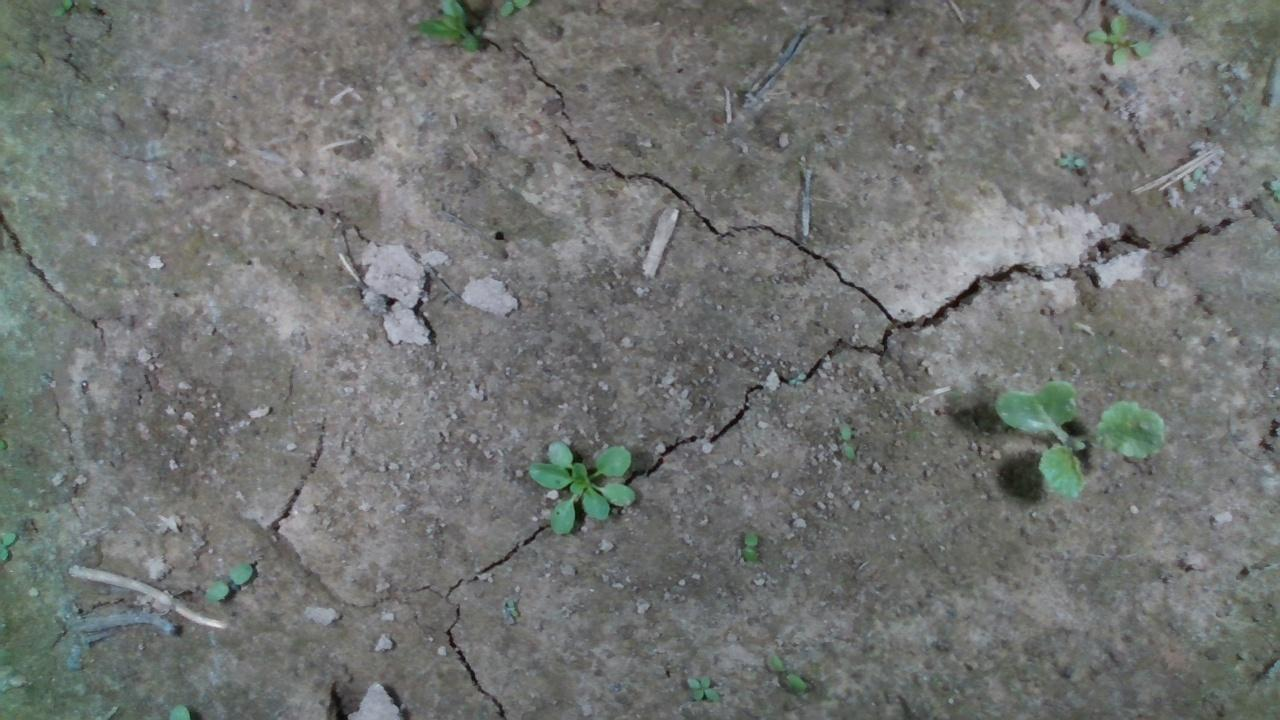weed: (205, 561, 256, 601), (764, 653, 810, 694), (829, 423, 866, 459), (683, 674, 720, 703), (736, 530, 763, 564), (1052, 148, 1088, 171)
